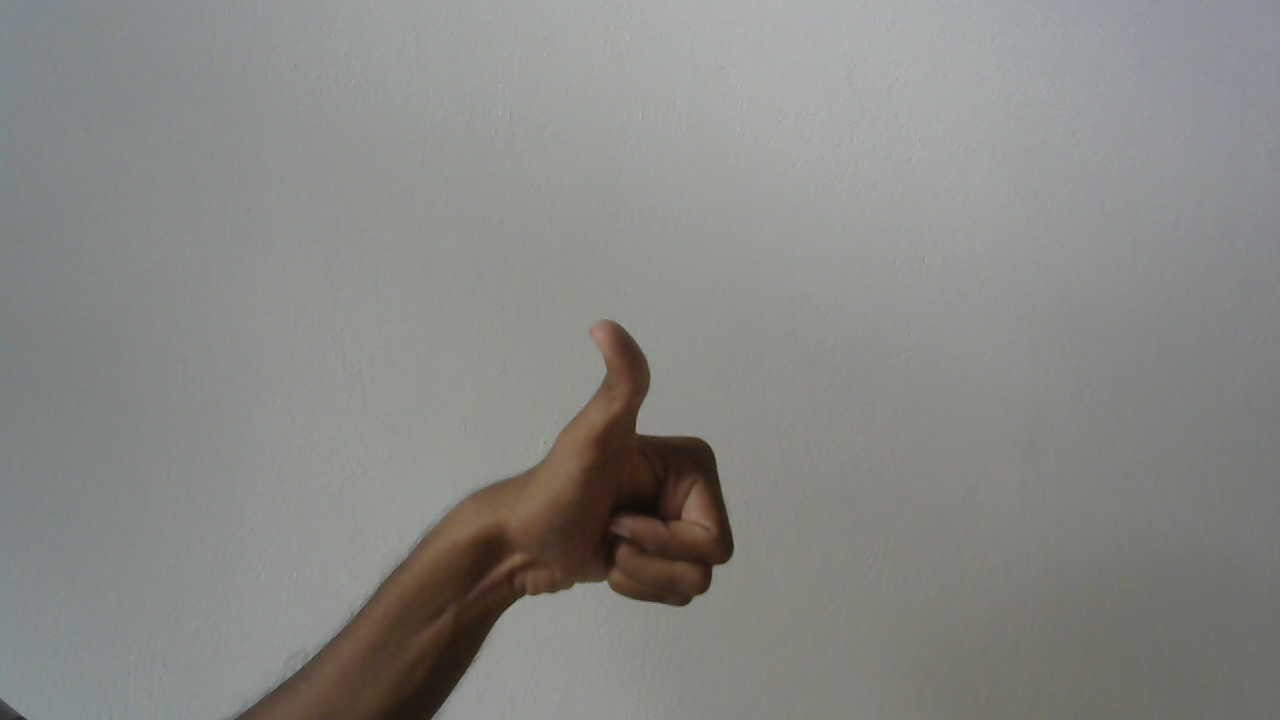thumbsup: (511, 304, 747, 649)
